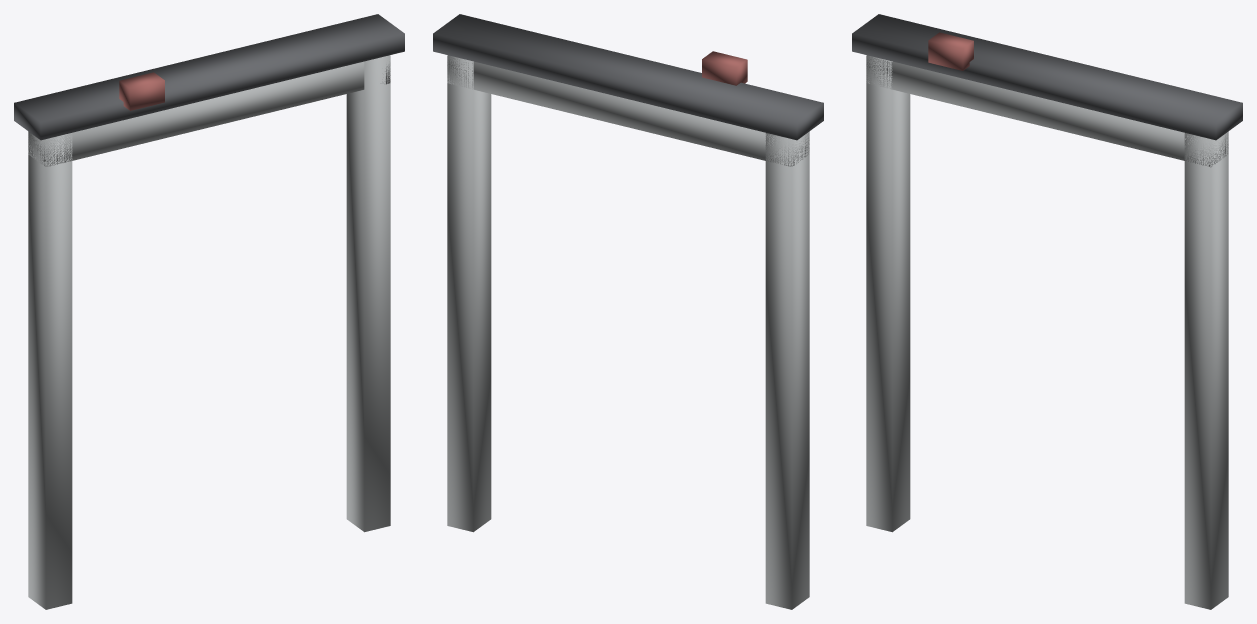
Rendered from doorway_fire_rated_w152_h220_d16.glb.
3 views of the same model, side by side, from view 1: azimuth 30°, elevation 25°; view 2: azimuth 150°, elevation 25°; view 3: azimuth 330°, elevation 25° (orthographic).
Parts seen in each view (by area): view 1: world; view 2: world; view 3: world.
Part boxes in pixels (left/top/right/bottom): world: left=14, top=14, right=404, bottom=609; world: left=433, top=14, right=823, bottom=609; world: left=852, top=14, right=1242, bottom=609.
Size of the model in its own units: 1.89 by 2.54 by 0.3.
